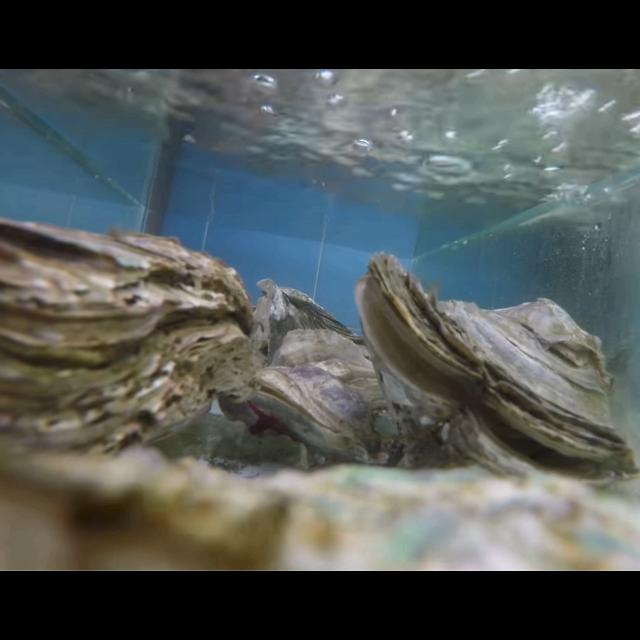Oyster-Closed: (0, 445, 640, 571), (0, 218, 254, 477), (252, 278, 368, 369)
Oyster-Open: (355, 253, 640, 495), (247, 327, 407, 469)
